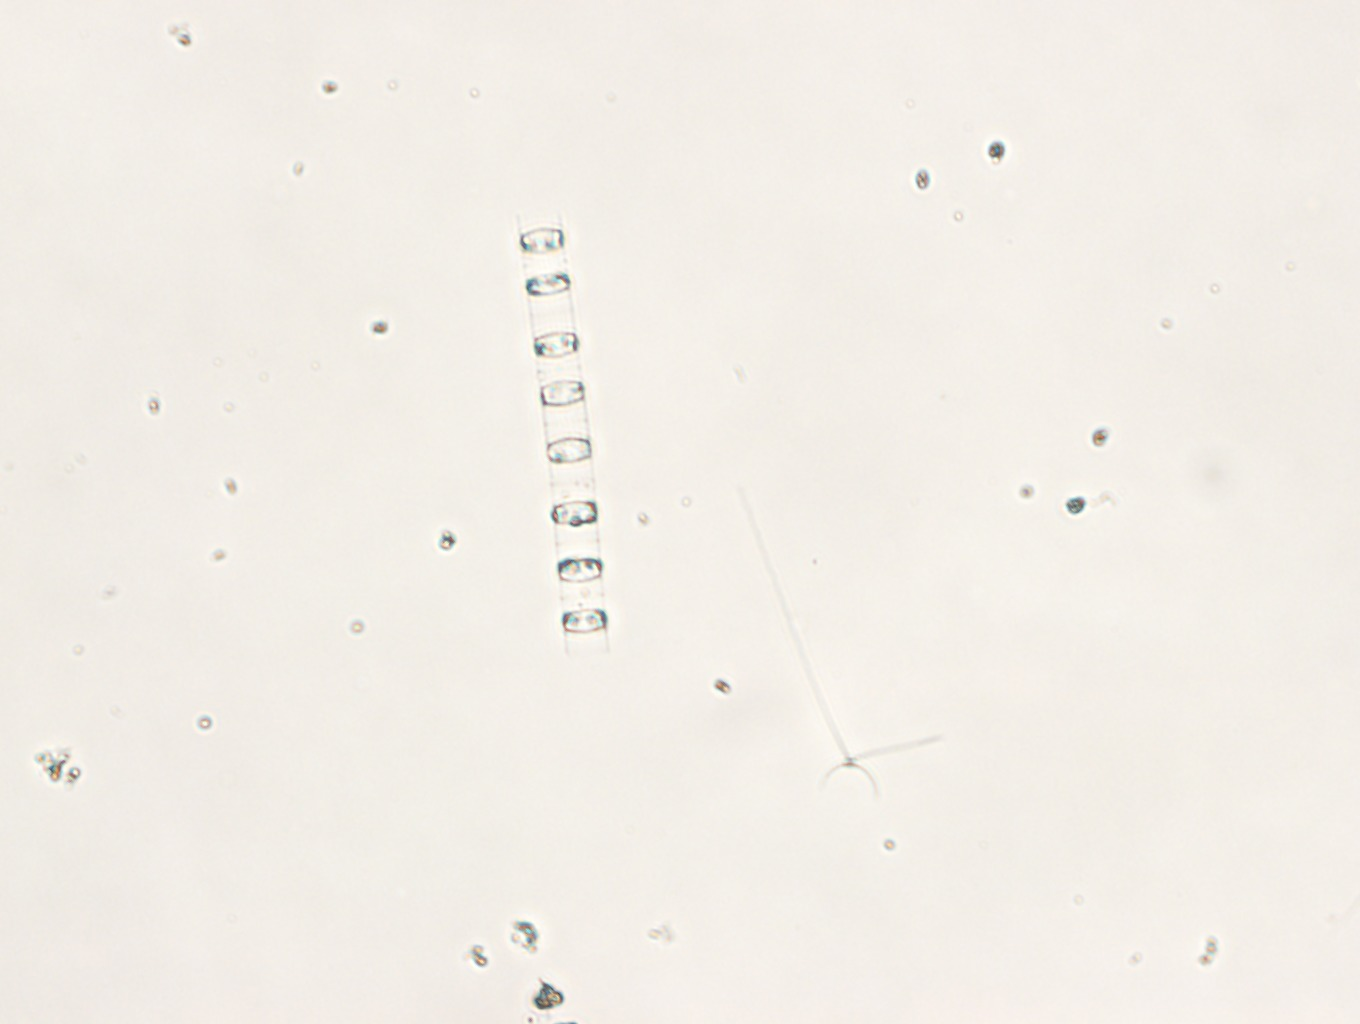skeletonema: (514, 209, 612, 658)
